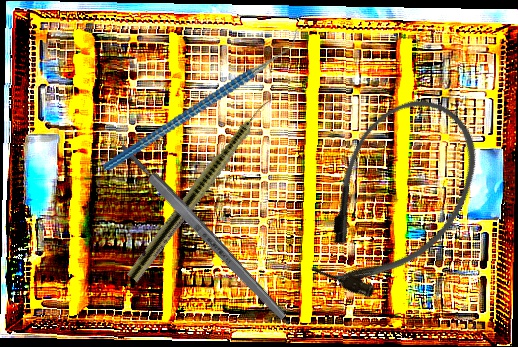Cannula: (287, 76, 503, 321)
Chopper: (82, 27, 323, 171)
Handpiece: (125, 89, 279, 285)
Scalpel Handle: (117, 140, 289, 324)
